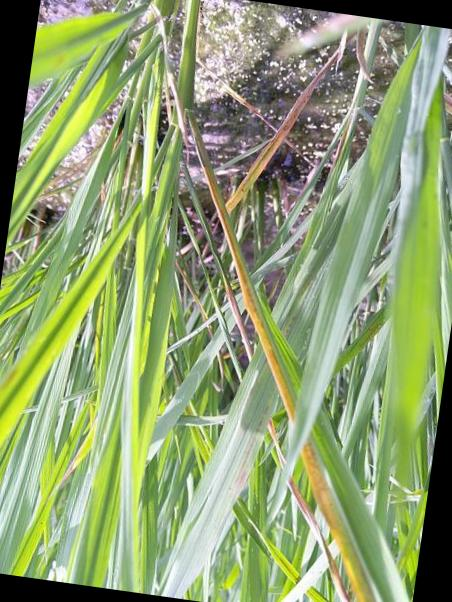Leaf Blight: (190, 119, 302, 421), (300, 408, 381, 602), (287, 482, 347, 602)
